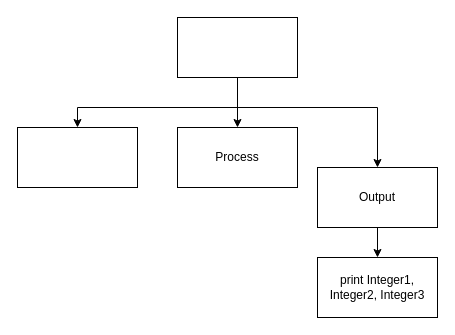
This 455x335 diagram has some shape labels left out. The centre of each missing label's shape, as x and y in pixels:
"Input" belongs at [77,157].
"RGB" belongs at [237,47].
